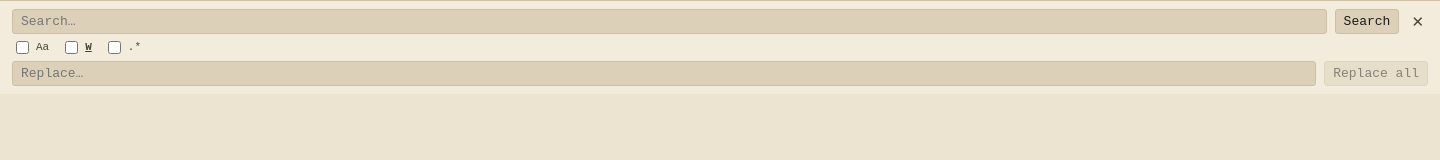
Test: SearchPanel › shows an error message when searchProject throws an Error
Type "foo" into the field named "Search pattern" at (669, 22), box [12,9,1327,34]
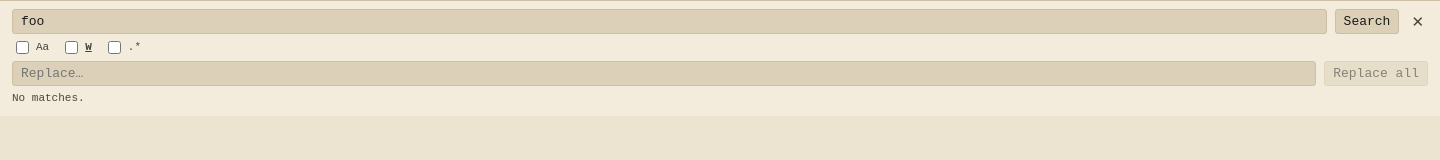
Click the button "Search" at (1367, 22), box [1335,9,1399,34]
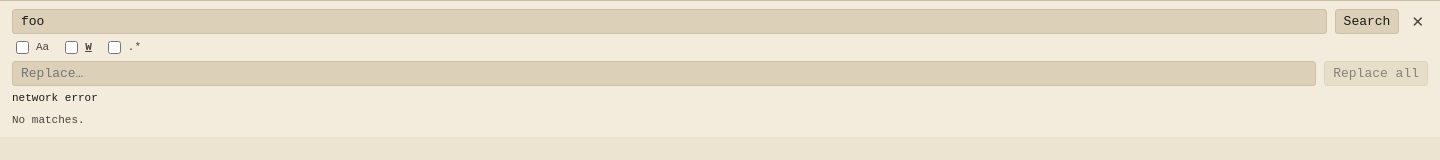
Now the text "network error" is shown, box [12,92,98,104]
